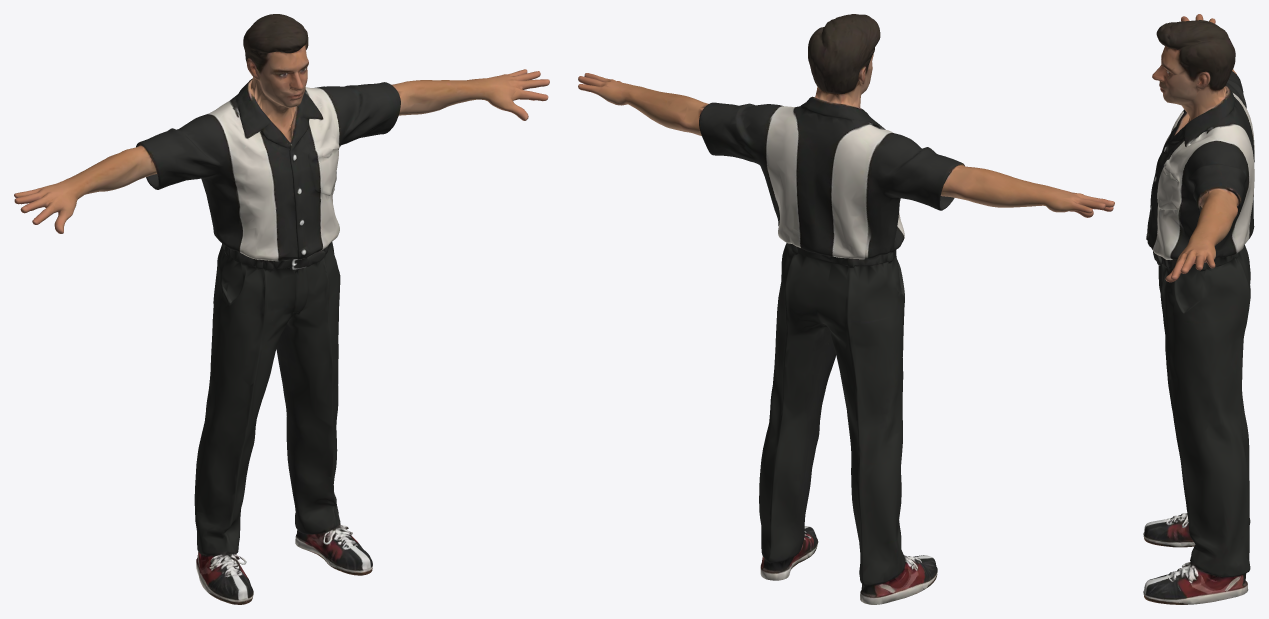
File: bowler.glb
3 views of the same model, side by side, from view 1: azimuth 30°, elevation 25°; view 2: azimuth 150°, elevation 25°; view 3: azimuth 270°, elevation 25° (orthographic).
Parts seen in each view (by area): view 1: tripo_node_81c75a16-8b49-452b-b5fe-25b1d7e5120a; view 2: tripo_node_81c75a16-8b49-452b-b5fe-25b1d7e5120a; view 3: tripo_node_81c75a16-8b49-452b-b5fe-25b1d7e5120a.
Part boxes in pixels (x1,y1,x2,y2): tripo_node_81c75a16-8b49-452b-b5fe-25b1d7e5120a: [14, 14, 549, 604]; tripo_node_81c75a16-8b49-452b-b5fe-25b1d7e5120a: [578, 14, 1114, 604]; tripo_node_81c75a16-8b49-452b-b5fe-25b1d7e5120a: [1143, 14, 1254, 604].
Bounding box in the file's own units: 1.78 × 1.78 × 0.3295.
Materials: 1 (1 with a texture image).
